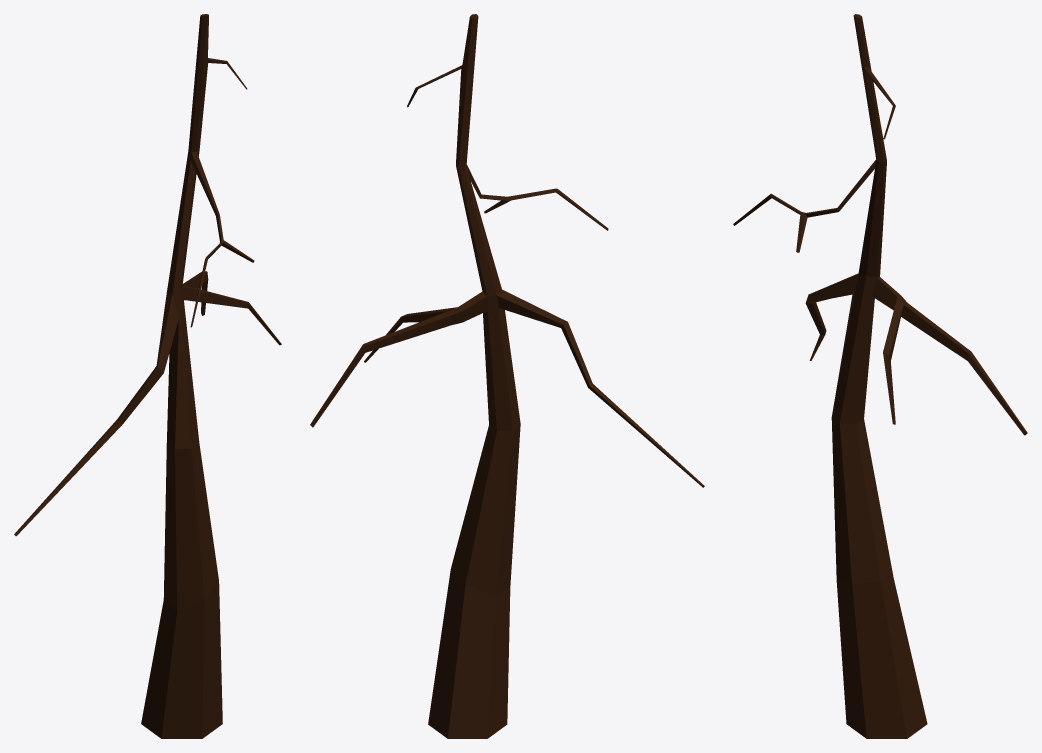
The model's file is Tree_Dead.fbx.
3 views of the same model, side by side, from view 1: azimuth 30°, elevation 25°; view 2: azimuth 150°, elevation 25°; view 3: azimuth 270°, elevation 25° (orthographic). The views are drawn at different scales.
Visible parts, largest first — view 1: Tree Dead; view 2: Tree Dead; view 3: Tree Dead.
Part boxes in pixels (x1,y1,x2,y2): Tree Dead: [14, 14, 281, 738]; Tree Dead: [310, 14, 704, 738]; Tree Dead: [733, 14, 1027, 738].
Bounding box in the file's own units: 1214 × 2697 × 1011.
